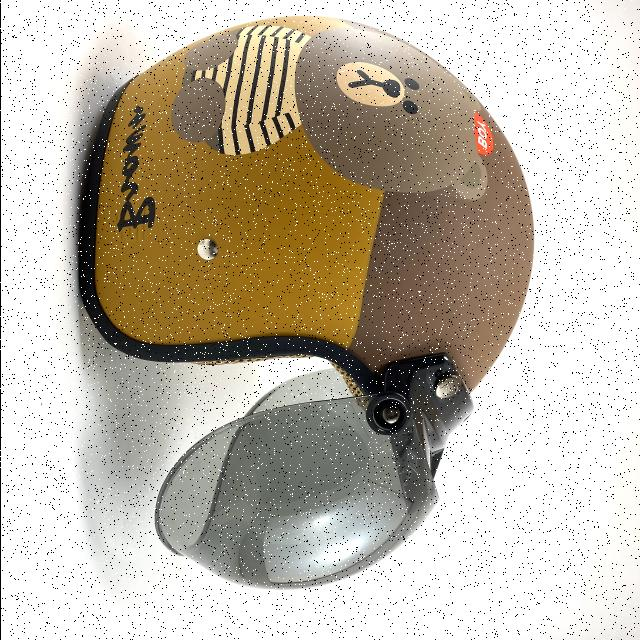Helmet: (75, 13, 532, 590)
